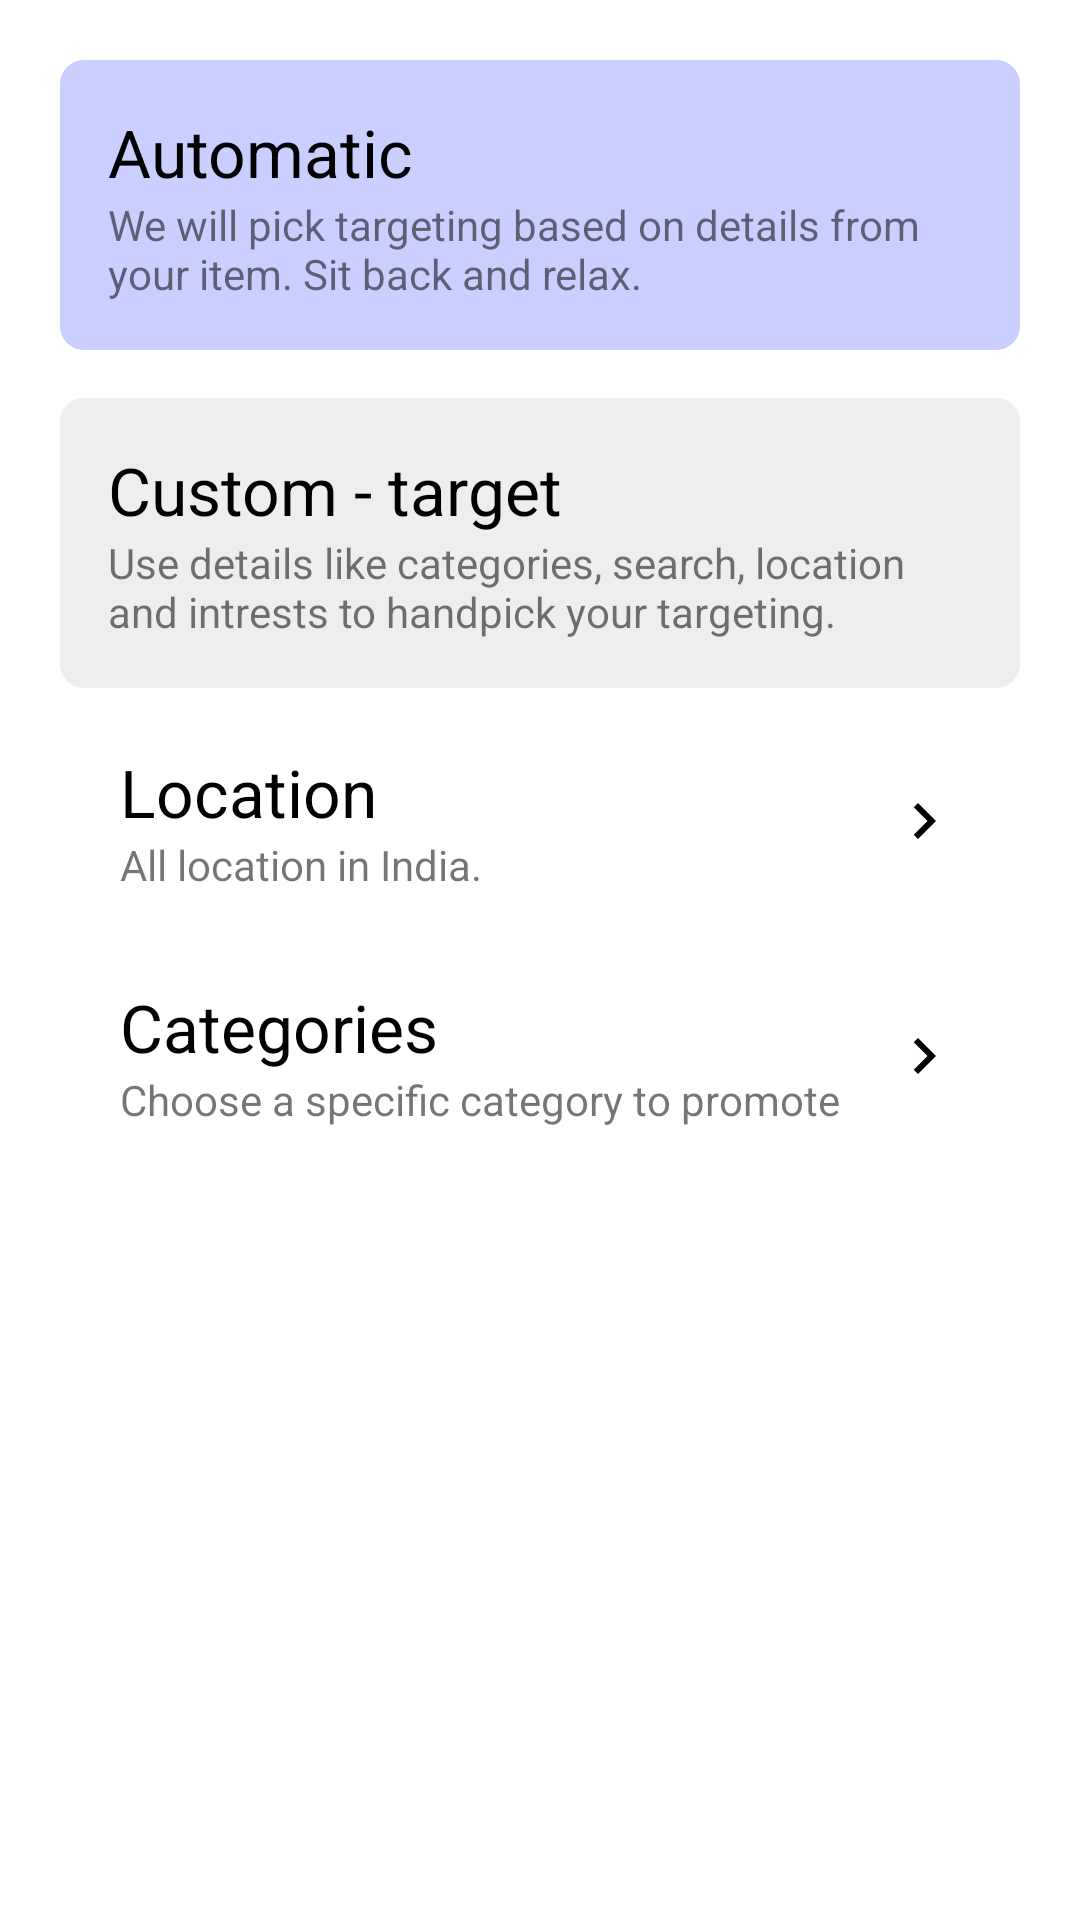

Named icons in this screenshot (1080 × 1920) and their centers, [x,y]:
chevron right: [925,821], [925,1056]
